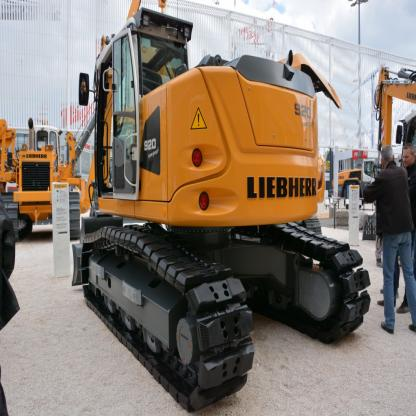excavator: (57, 6, 374, 396)
person: (360, 137, 416, 339)
